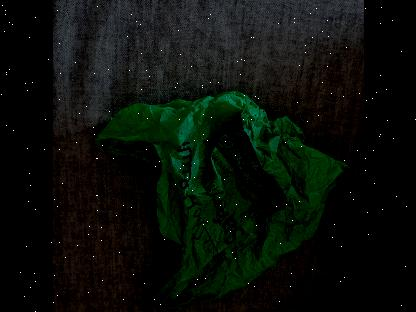Others: (95, 95, 349, 312)
